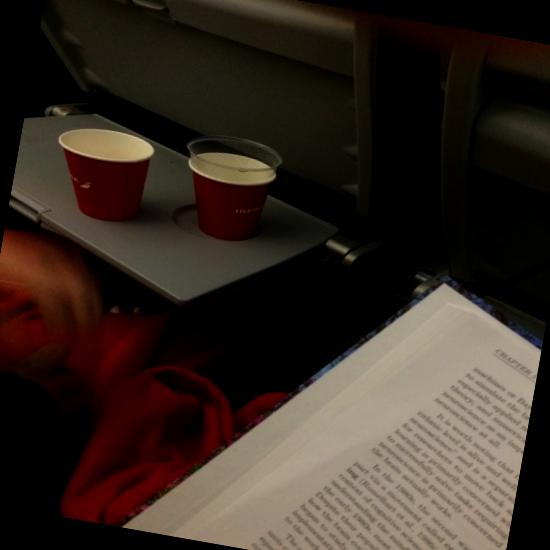Disposable plastic cup: (186, 135, 282, 182)
Paper cup: (58, 128, 154, 221), (188, 153, 276, 240)
